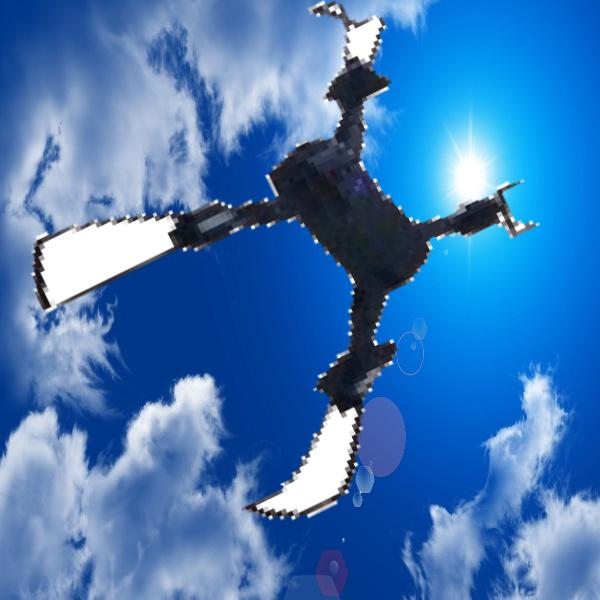drone: (44, 25, 551, 532)
